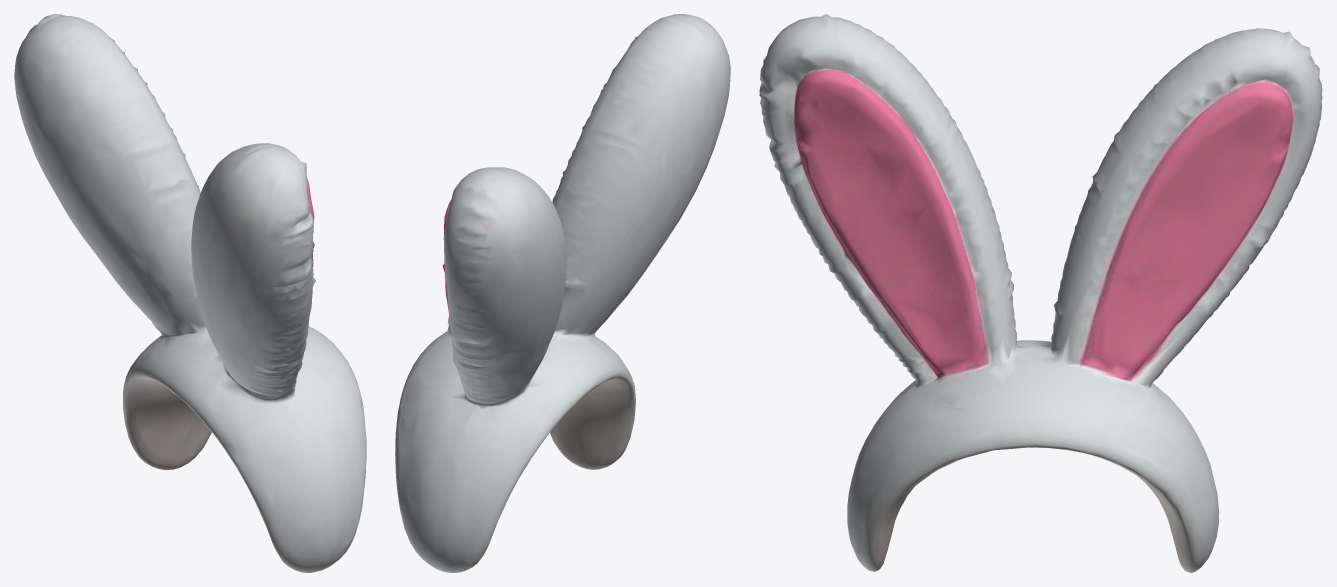
The model's file is bunny.glb.
The picture shows the model from 3 angles, left to right: view 1: azimuth 30°, elevation 25°; view 2: azimuth 150°, elevation 25°; view 3: azimuth 270°, elevation 25°; orthographic projection. The views are drawn at different scales.
Parts seen in each view (by area): view 1: tripo_node_76cea750-3be9-4ba2-8ce5-49185c8671df; view 2: tripo_node_76cea750-3be9-4ba2-8ce5-49185c8671df; view 3: tripo_node_76cea750-3be9-4ba2-8ce5-49185c8671df.
Boxes of the visible parts, x1,y1,x2,y2 form: tripo_node_76cea750-3be9-4ba2-8ce5-49185c8671df: [14, 14, 366, 572]; tripo_node_76cea750-3be9-4ba2-8ce5-49185c8671df: [395, 14, 730, 572]; tripo_node_76cea750-3be9-4ba2-8ce5-49185c8671df: [759, 14, 1322, 572].
Size of the model in its own units: 0.4761 by 0.9998 by 0.9999.
1 material, 1 textured.
